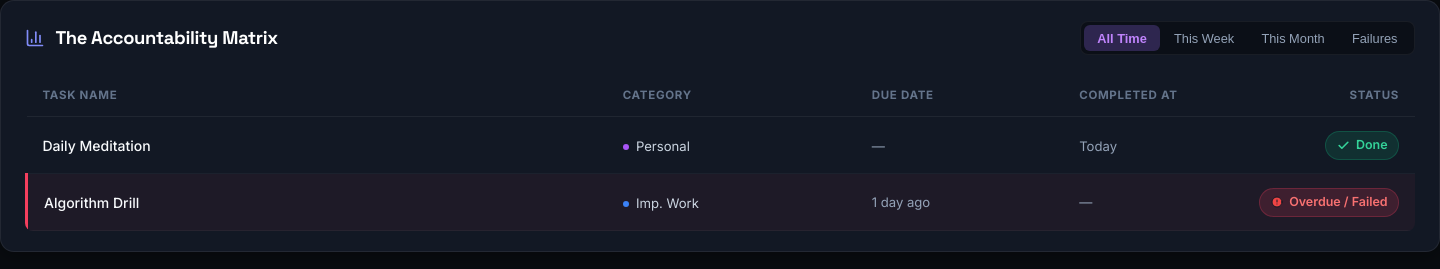
Productivity Analytics Dashboard Components (100% Real User Data) › renders AccountabilityMatrix with only real user tasks and supports failure filtering
This screenshot has width=1440, height=269.
Check: the heading "The Accountability Matrix" is shown, box [55,27,278,49]
Check: the button "All Time" is shown, box [1084,25,1160,51]
# Click Failures filter
Click the button "Failures". click: point(1375, 38)
box: [1338,25,1411,51]
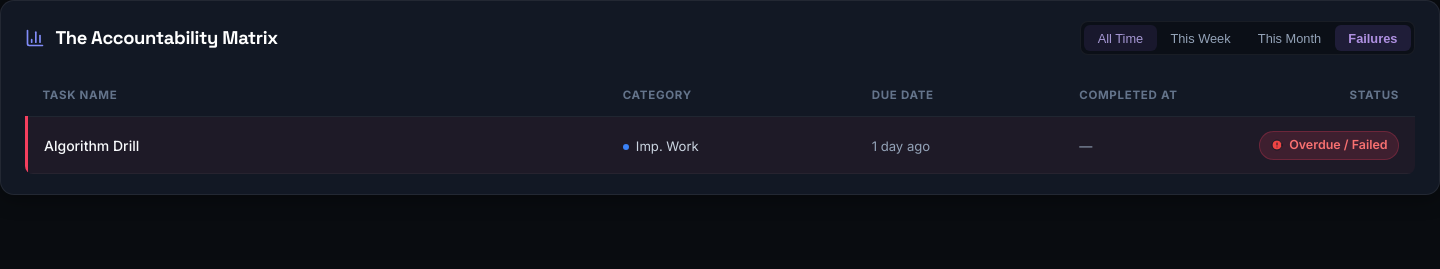
Check: the text "Algorithm Drill" is shown, box [44,137,139,154]
Check: the text "Daily Meditation" is gone
